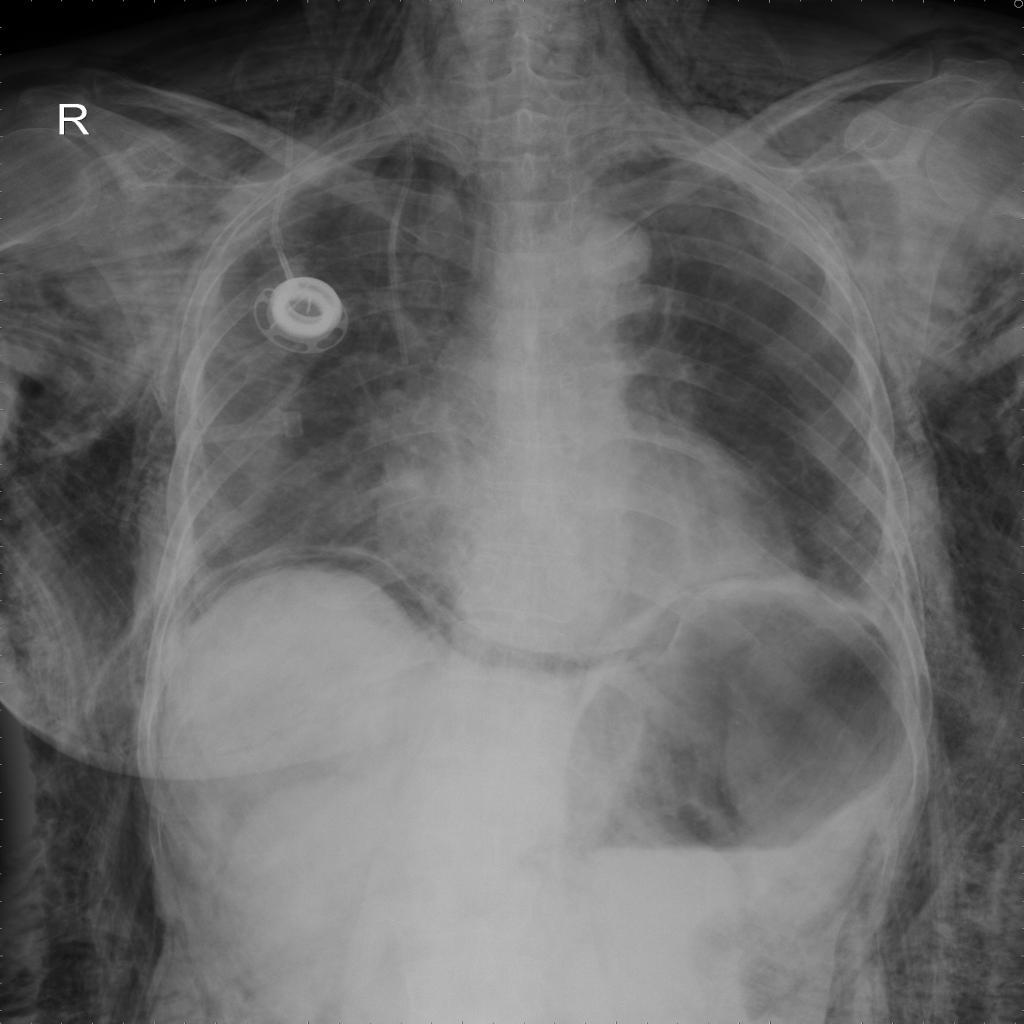Nodule: (579, 217, 656, 286)
